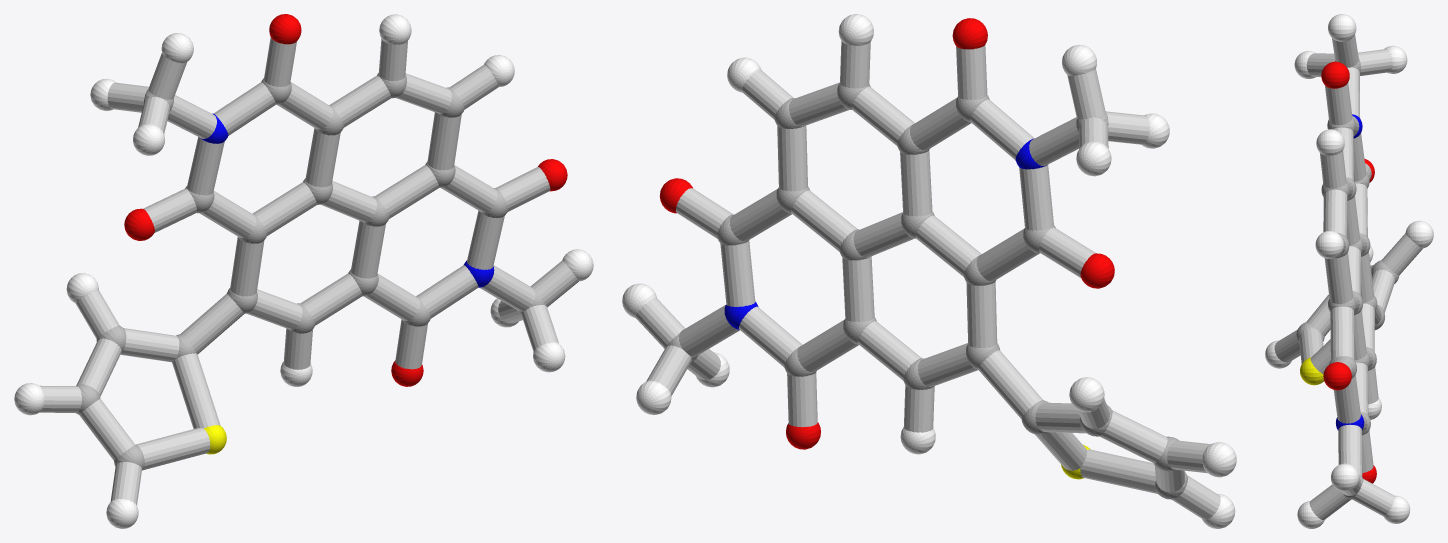
The model's file is Dimethyl_Naphthalene_Dicarboximide_Phi_30_Theta_40_Thiophene.glb.
3 views of the same model, side by side, from view 1: azimuth 30°, elevation 25°; view 2: azimuth 150°, elevation 25°; view 3: azimuth 270°, elevation 25° (orthographic). The views are drawn at different scales.
Parts seen in each view (by area): view 1: grp14119, grp7241, grp1, grp12309, grp11585; view 2: grp14119, grp7241, grp1, grp12309, grp11585; view 3: grp14119, grp7241, grp1, grp12309, grp13757, grp11585.
Boxes of the visible parts, x1,y1,x2,y2 form: grp14119: (39,37,578,505); grp7241: (14,14,593,528); grp1: (76,73,545,469); grp12309: (124,14,567,386); grp11585: (201,113,494,287); grp14119: (635,41,1220,519); grp7241: (622,14,1236,528); grp1: (666,83,1187,499); grp12309: (659,18,1114,449); grp11585: (724,138,1046,329); grp14119: (1274,35,1422,519); grp7241: (1265,14,1433,528); grp1: (1296,59,1399,499); grp12309: (1321,61,1376,483); grp13757: (1300,357,1323,385); grp11585: (1336,114,1364,430).
Size of the model in its own units: 12.13 by 9.09 by 3.56.
